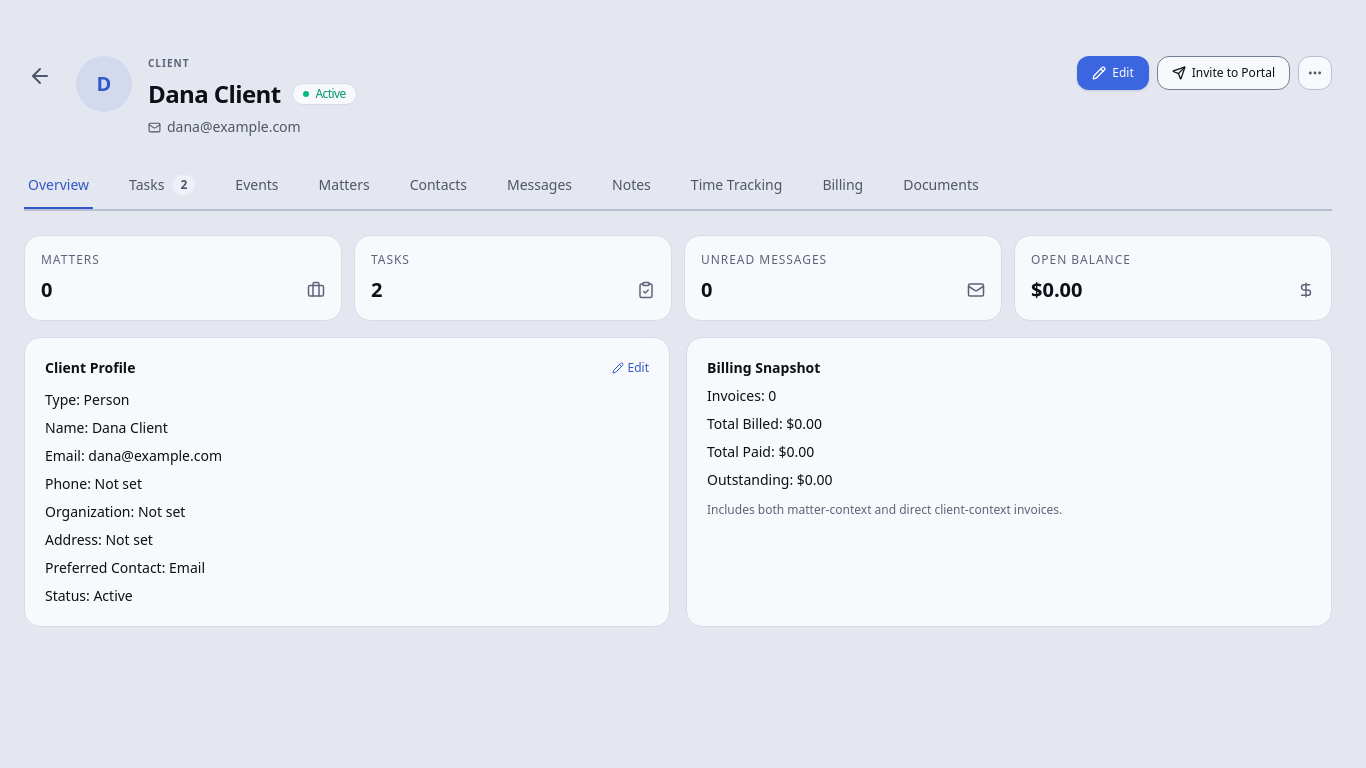
Test: deleting a task from the client page › confirms, deletes the task and re-reads the list
Check: the heading "Dana Client Active" is shown, box [148, 77, 357, 110]
Step 1. Click the 1st button "Tasks 2" → {"x": 162, "y": 186}, box [125, 163, 199, 209]
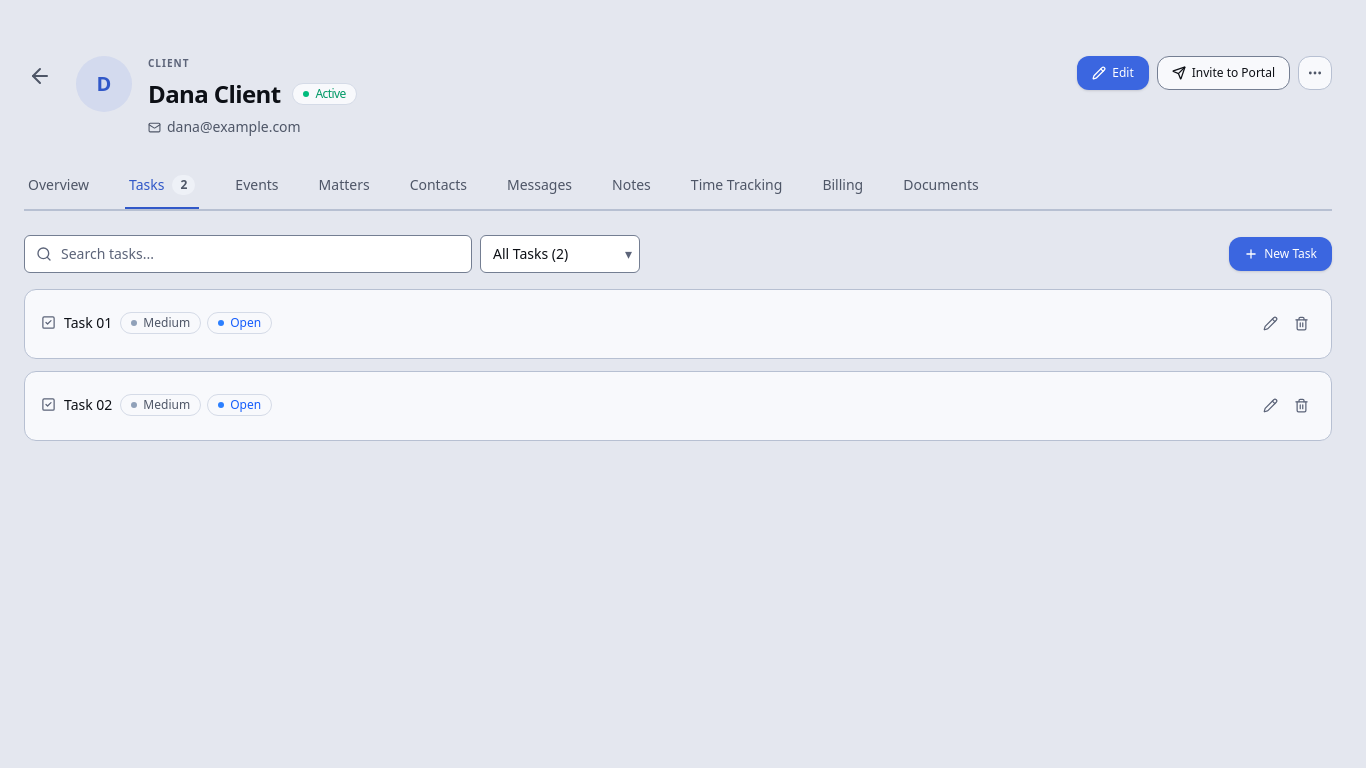
Check: the text "Task 01" is shown, box [41, 313, 112, 333]
Step 2. Click the button named "Delete Task 01" → {"x": 1302, "y": 324}, box [1288, 310, 1315, 337]
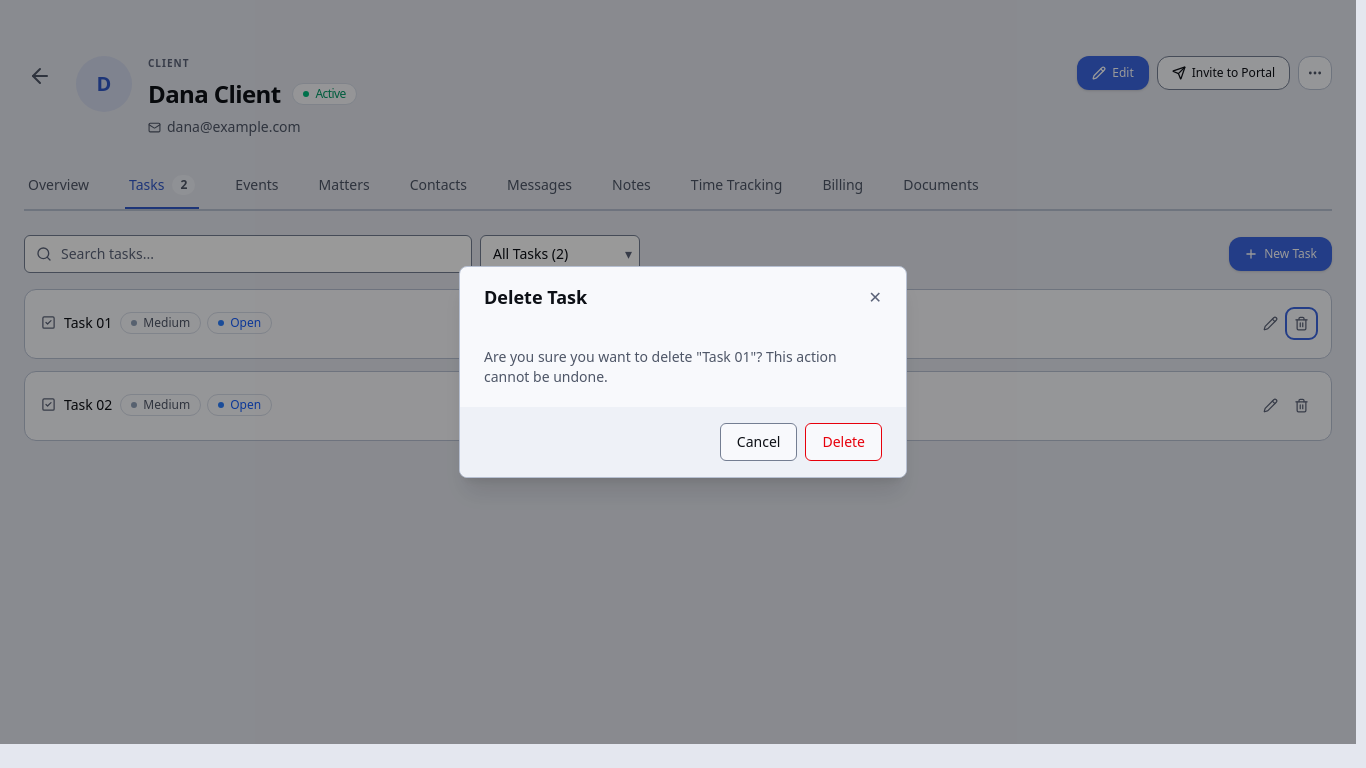
Step 3. Click the button "Delete" → {"x": 844, "y": 442}, box [805, 423, 882, 461]
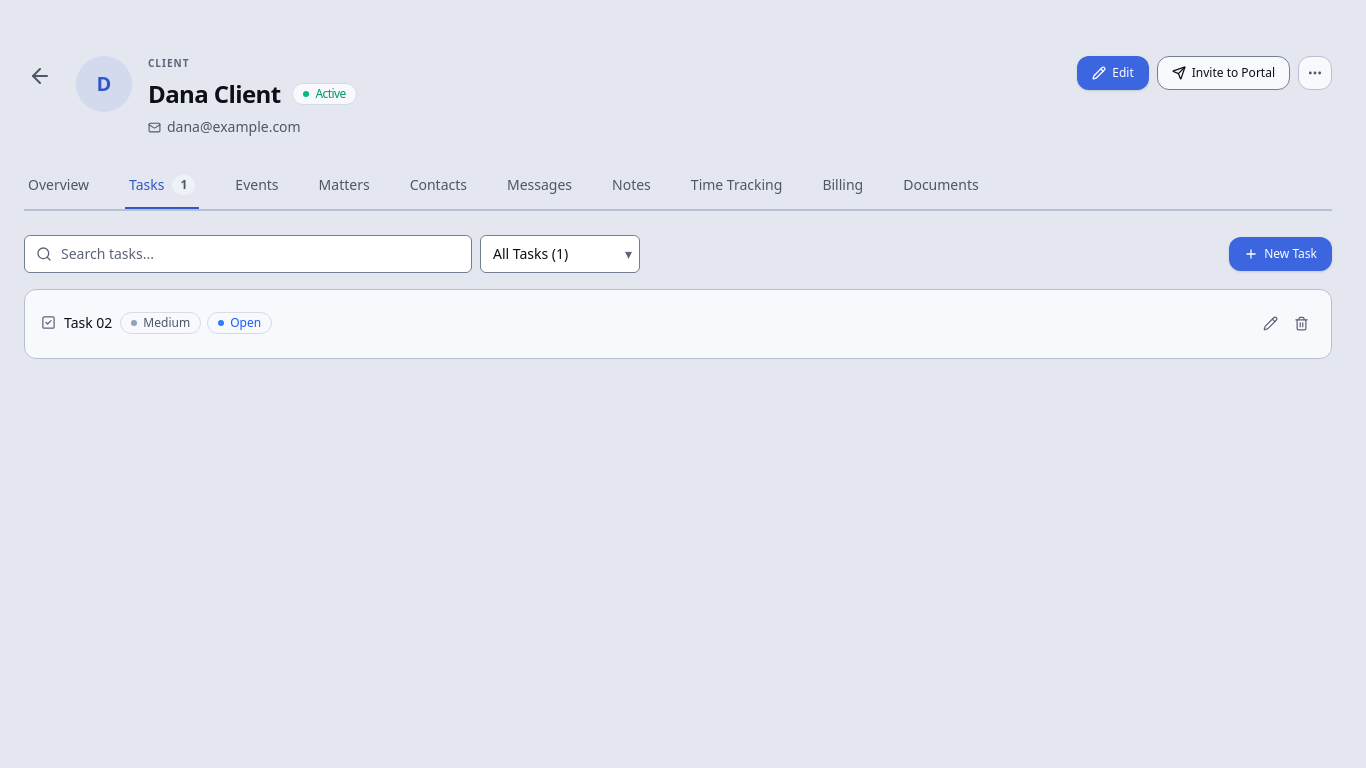
Check: the text "Task 02" is shown, box [41, 313, 112, 333]
Check: the text "Task 01" is gone
